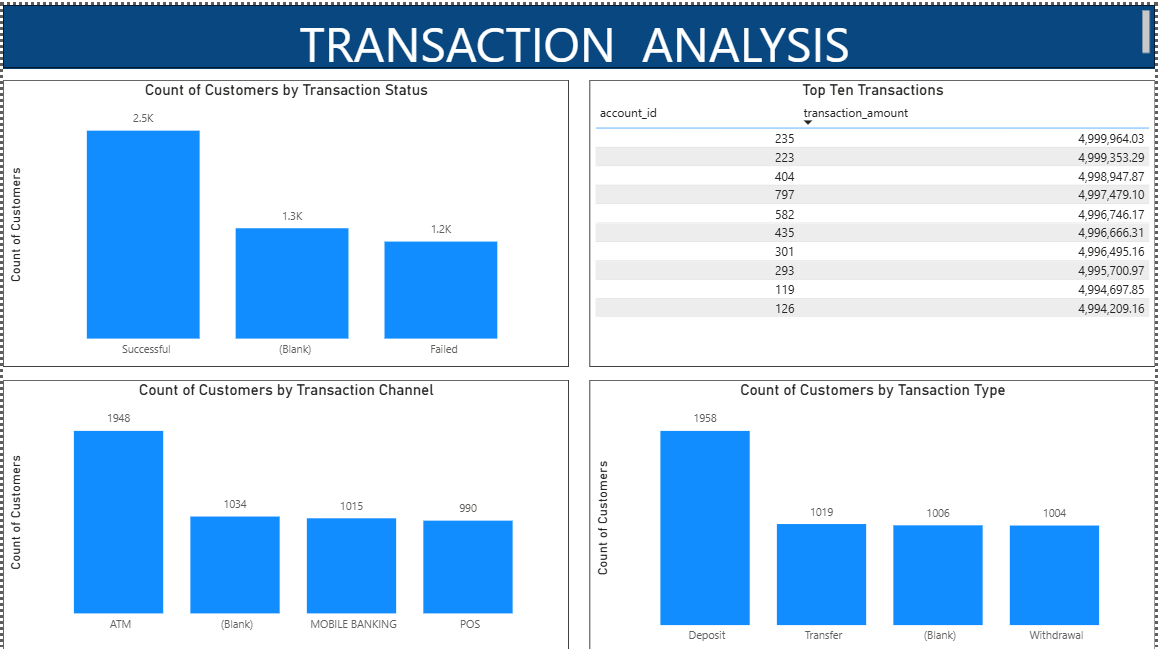

What the dashboard file says about the page in this screenshot:
{"tool":"powerbi","page":{"name":"Transaction Analysis","canvas":[1280,720],"ordinal":3},"visuals":[{"type":"clusteredColumnChart","fields":{"Category":["public fact_transactions.transaction_status"],"Y":["CountNonNull(public fact_transactions.customer_id)"]},"box":[0,83.3,628.3,318.3],"z":0},{"type":"clusteredColumnChart","title":"Count of Customers by Tansaction Type","fields":{"Category":["public fact_transactions.transaction_type"],"Y":["CountNonNull(public fact_transactions.customer_id)"]},"box":[651.7,416.7,628.3,303.3],"z":1000},{"type":"clusteredColumnChart","title":"Count of Customers by Transaction Channel","fields":{"Category":["public fact_transactions.transaction_channel"],"Y":["CountNonNull(public fact_transactions.customer_id)"]},"box":[0,416.7,628.3,303.3],"z":1001},{"type":"tableEx","title":"Top Ten Transactions","fields":{"Values":["public fact_transactions.account_id","public fact_transactions.transaction_amount"]},"box":[651.7,83.3,628.3,318.3],"z":1002},{"type":"textbox","box":[0,0,1280,70],"z":1003}]}

Visuals, with their boxes in screenshot pixels (x1, y1, x2, y2), scaled from the page's 1280x720 canvas onto the 1162x649 screenshot:
clusteredColumnChart - public fact_transactions.transaction_status x CountNonNull(public fact_transactions.customer_id): select_region(0, 75, 570, 362)
"Count of Customers by Tansaction Type" clusteredColumnChart: select_region(592, 376, 1161, 648)
"Count of Customers by Transaction Channel" clusteredColumnChart: select_region(0, 376, 570, 648)
"Top Ten Transactions" tableEx: select_region(592, 75, 1161, 362)
textbox: select_region(0, 0, 1161, 63)
